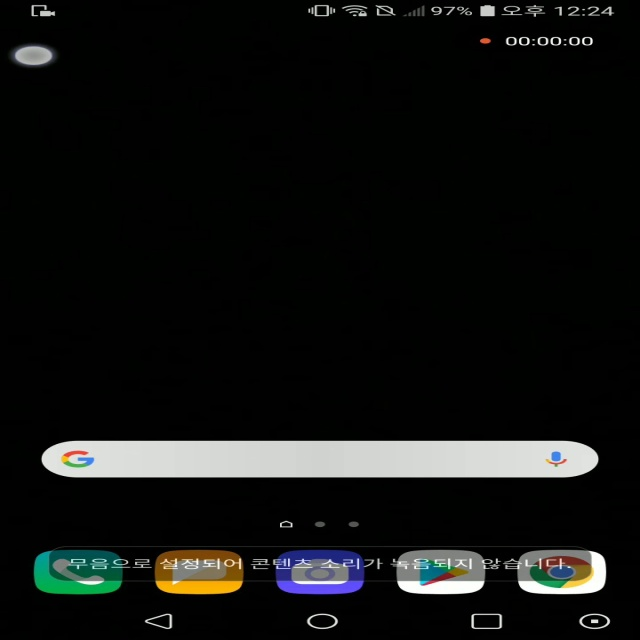Cursor: (11, 45, 56, 67)
